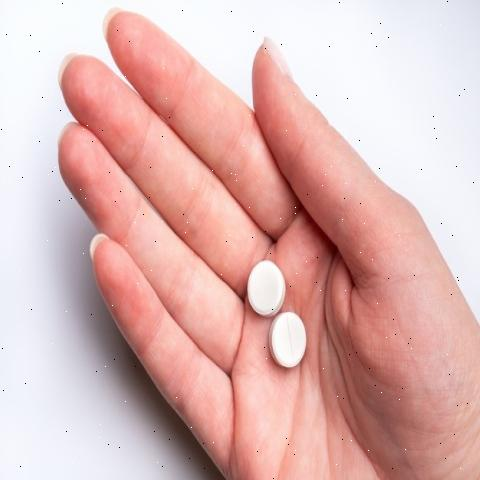Pill: (262, 306, 318, 374), (229, 259, 289, 313)
